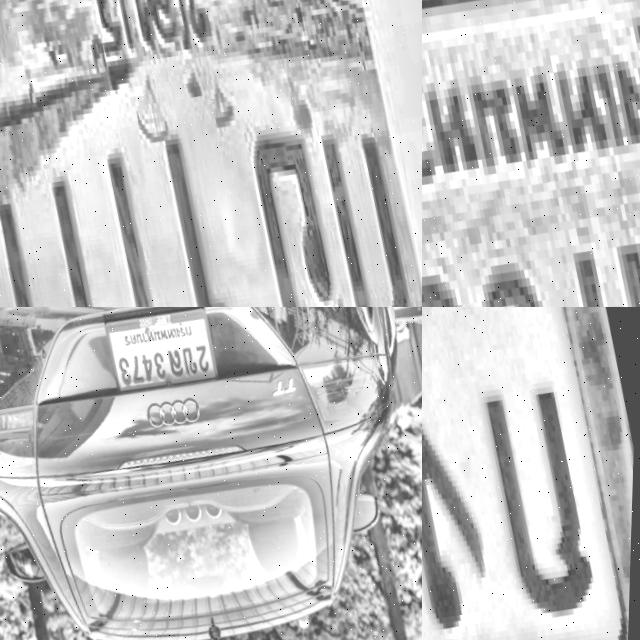license-plate: (0, 0, 422, 307), (422, 307, 640, 640), (422, 0, 640, 307), (100, 307, 224, 403)
